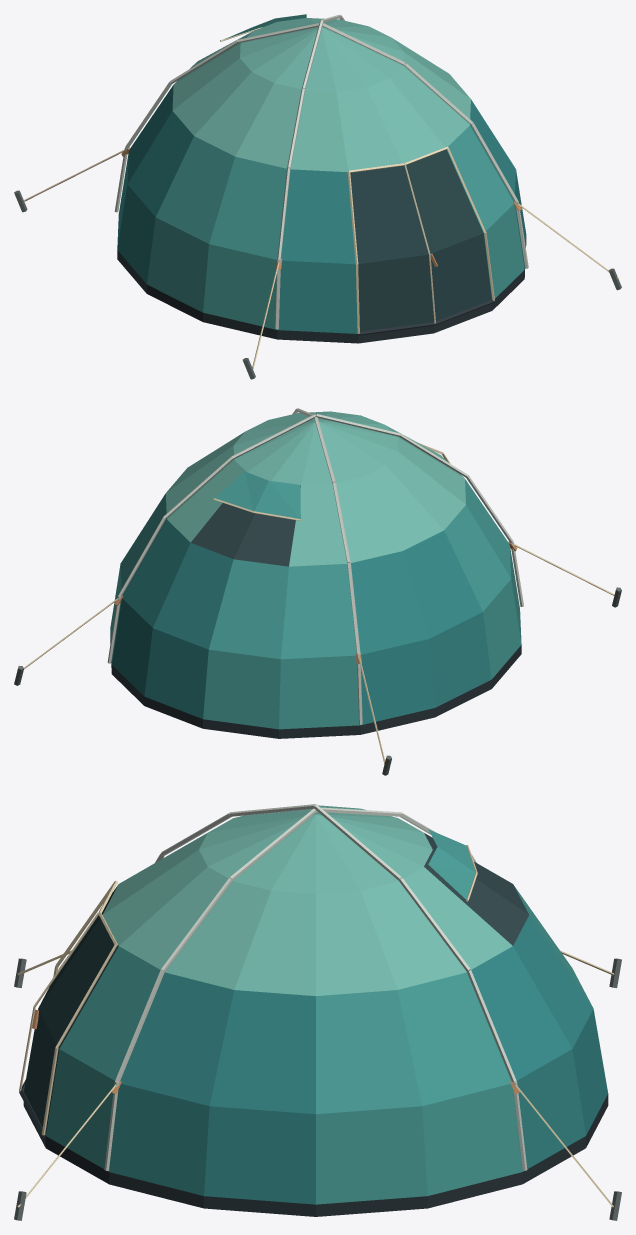
File: 02_medium_dome.glb
The picture shows the model from 3 angles, top to bottom: view 1: azimuth 30°, elevation 25°; view 2: azimuth 150°, elevation 25°; view 3: azimuth 270°, elevation 25°; orthographic projection. The views are drawn at different scales.
Parts seen in each view (by area): view 1: fly_panel_1_14, door_panel_1_15, fly_panel_1_13, fly_panel_0_14, door_panel_0_15, fly_panel_0_13, fly_panel_1_12, door_panel_1_00, fly_panel_0_12, door_panel_0_00, bathtub_groundsheet, fly_panel_2_14 (+23 smaller); view 2: fly_panel_1_09, fly_panel_1_08, fly_panel_1_10, fly_panel_0_09, fly_panel_0_08, fly_panel_1_07, fly_panel_0_10, fly_panel_1_11, bathtub_groundsheet, fly_panel_0_07, fly_panel_0_11, fly_panel_2_09 (+24 smaller); view 3: fly_panel_1_03, fly_panel_1_04, fly_panel_0_03, fly_panel_0_04, fly_panel_1_05, fly_panel_1_02, fly_panel_0_02, fly_panel_0_05, bathtub_groundsheet, fly_panel_1_06, fly_panel_1_01, fly_panel_2_03 (+35 smaller).
Part boxes in pixels (x1,y1,x2,y2): fly_panel_1_14: (281,169,355,264); door_panel_1_15: (350,165,428,263); fly_panel_1_13: (209,156,286,259); fly_panel_0_14: (277,260,357,333); door_panel_0_15: (358,255,433,331); fly_panel_0_13: (203,244,277,329); fly_panel_1_12: (156,136,234,243); door_panel_1_00: (404,149,483,254); fly_panel_0_12: (147,217,208,312); door_panel_0_00: (428,233,491,321); bathtub_groundsheet: (117,236,526,343); fly_panel_2_14: (290,90,348,172); fly_panel_1_09: (281,564,356,659); fly_panel_1_08: (209,559,288,659); fly_panel_1_10: (351,551,428,654); fly_panel_0_09: (279,655,359,729); fly_panel_0_08: (203,649,280,729); fly_panel_1_07: (153,543,233,649); fly_panel_0_10: (360,639,435,725); fly_panel_1_11: (403,530,482,638); bathtub_groundsheet: (110,635,521,738); fly_panel_0_07: (144,628,208,718); fly_panel_0_11: (429,612,491,707); fly_panel_2_09: (289,484,347,566); fly_panel_1_03: (209,990,315,1114); fly_panel_1_04: (316,990,421,1114); fly_panel_0_03: (204,1106,315,1204); fly_panel_0_04: (316,1106,427,1204); fly_panel_1_05: (397,972,510,1106); fly_panel_1_02: (120,972,233,1105); fly_panel_0_02: (109,1084,209,1195); fly_panel_0_05: (422,1084,522,1195); bathtub_groundsheet: (23,1094,608,1216); fly_panel_1_06: (467,946,571,1080); fly_panel_1_01: (59,946,164,1080); fly_panel_2_03: (234,890,315,996).
Size of the model in its own units: 2.91 by 1.71 by 3.12.
